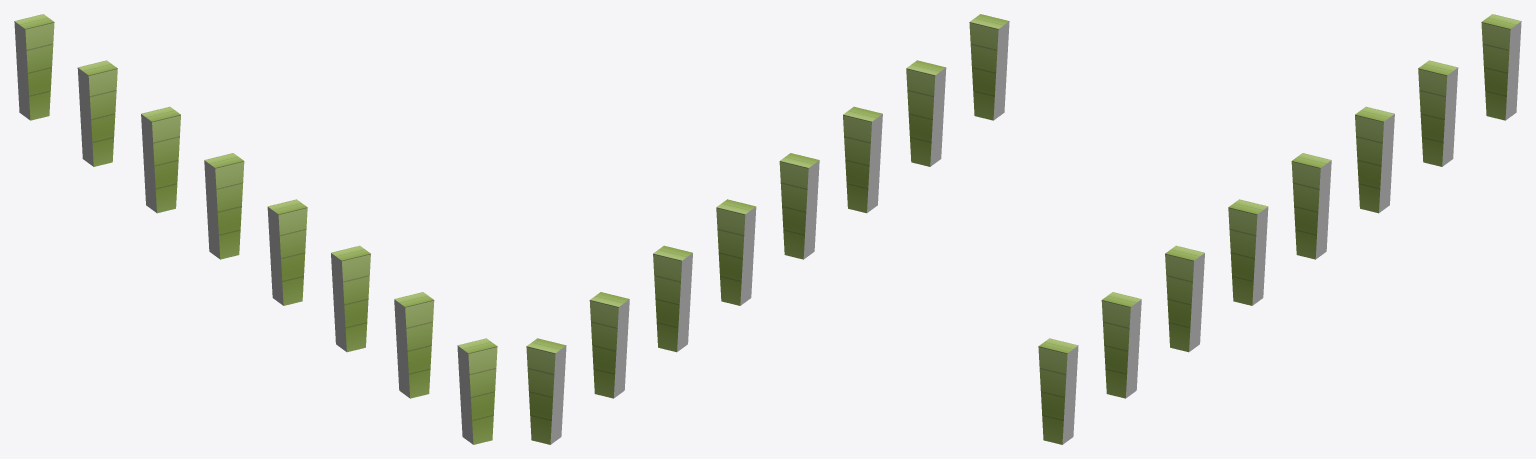
The model's file is Subway03Column.FBX.
3 views of the same model, side by side, from view 1: azimuth 30°, elevation 25°; view 2: azimuth 150°, elevation 25°; view 3: azimuth 330°, elevation 25° (orthographic).
Parts seen in each view (by area): view 1: Subway03Column01; view 2: Subway03Column01; view 3: Subway03Column01.
Boxes of the visible parts, box(x1,y1,x2,y2) form: Subway03Column01: box(14, 14, 497, 444); Subway03Column01: box(526, 14, 1009, 444); Subway03Column01: box(1038, 14, 1521, 444).
Bounding box in the file's own units: 2215 × 6741 × 59779.
